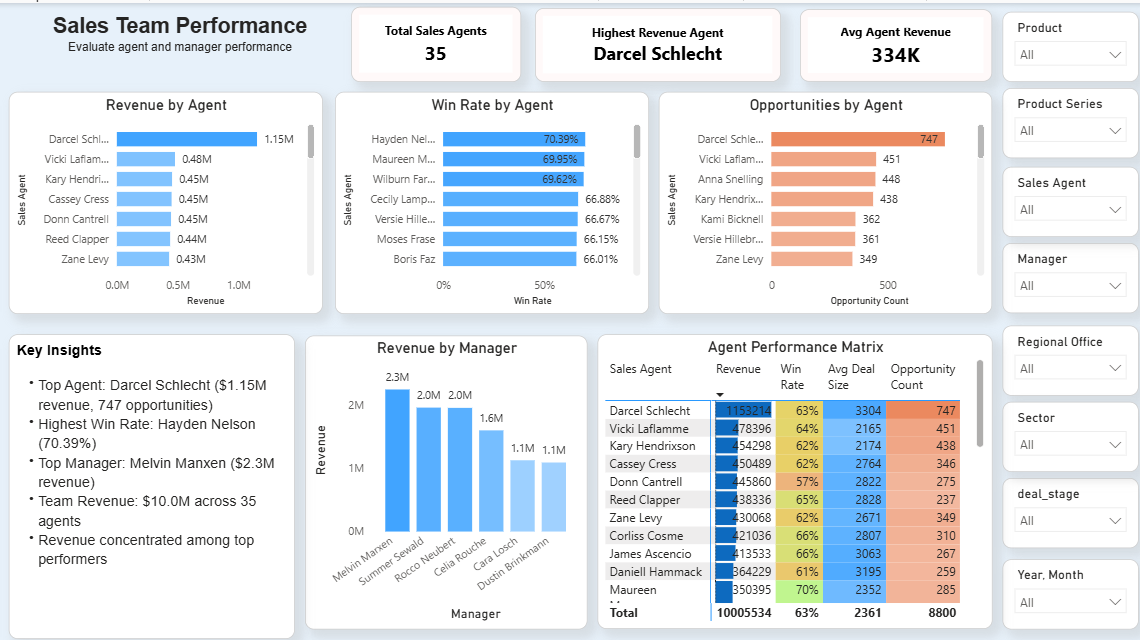

This screenshot's page, from the dashboard's own definition file:
{"tool":"powerbi","page":{"name":"Sales Team Performance","canvas":[1280,720],"ordinal":2},"visuals":[{"type":"cardVisual","title":"Total Revenue","fields":{"Data":["Measures_table.Total Sales Agents"]},"box":[391.9,4.2,189.7,83.7],"z":0},{"type":"clusteredColumnChart","title":"Revenue by Manager","fields":{"Category":["sales_teams.manager"],"Y":["Measures_table.Total Revenue"]},"box":[340.3,371,315.2,327.7],"z":1000},{"type":"textbox","box":[9.8,7,382.1,83.7],"z":2000},{"type":"cardVisual","fields":{"Data":["Measures_table.Highest Revenue Agent"]},"box":[596.9,5.6,274.7,82.3],"z":3000},{"type":"cardVisual","fields":{"Data":["Measures_table.Average Agent Revenue"]},"box":[892.6,7,214.8,80.9],"z":4000},{"type":"slicer","fields":{"Values":["products.product"]},"box":[1118.5,9.8,152,78.1],"z":5000},{"type":"slicer","fields":{"Values":["products.series"]},"box":[1118.5,94.8,152,78.1],"z":6000},{"type":"slicer","fields":{"Values":["sales_teams.manager"]},"box":[1118.5,267.8,152,78.1],"z":7000},{"type":"slicer","fields":{"Values":["sales_teams.regional_office"]},"box":[1118.5,359.8,152,78.1],"z":8000},{"type":"slicer","fields":{"Values":["sales_pipeline.deal_stage"]},"box":[1118.5,530,152,78.1],"z":9000},{"type":"slicer","fields":{"Values":["accounts.sector"]},"box":[1118.5,444.9,152,78.1],"z":10000},{"type":"slicer","fields":{"Values":["sales_pipeline.engage_date.Variation.Date Hierarchy.Year","sales_pipeline.engage_date.Variation.Date Hierarchy.Month"]},"box":[1118.5,620.6,152,78.1],"z":11000},{"type":"textbox","box":[9.7,369.4,319.4,340.3],"z":12000},{"type":"slicer","fields":{"Values":["sales_pipeline.sales_agent"]},"box":[1118.5,182.7,152,78.1],"z":13000},{"type":"clusteredBarChart","title":"Revenue by Agent","fields":{"Y":["Measures_table.Total Revenue"],"Category":["sales_pipeline.sales_agent"]},"box":[9.8,99,350.1,248.2],"z":14000},{"type":"clusteredBarChart","title":"Win Rate by Agent","fields":{"Category":["sales_pipeline.sales_agent"],"Y":["Measures_table.Win Rate"]},"box":[373.8,99,350.1,248.2],"z":15000},{"type":"clusteredBarChart","title":"Opportunities by Agent","fields":{"Y":["Measures_table.Total Opportunities"],"Category":["sales_pipeline.sales_agent"]},"box":[735,99,372.4,248.2],"z":16000},{"type":"pivotTable","title":"Agent Performance Matrix","fields":{"Rows":["sales_pipeline.sales_agent"],"Values":["Measures_table.Total Revenue","Measures_table.Win Rate","Measures_table.Avg Deal Size","Measures_table.Total Opportunities"]},"box":[666.6,369.6,440.7,329.1],"z":17000}]}

Visuals, with their boxes in screenshot pixels (x1, y1, x2, y2), scaled from the page's 1280x720 canvas onto the 1140x640 screenshot:
"Total Revenue" cardVisual: (349, 4, 518, 78)
"Revenue by Manager" clusteredColumnChart: (303, 330, 584, 621)
textbox: (9, 6, 349, 81)
cardVisual - Measures_table.Highest Revenue Agent: (532, 5, 776, 78)
cardVisual - Measures_table.Average Agent Revenue: (795, 6, 986, 78)
slicer - products.product: (996, 9, 1132, 78)
slicer - products.series: (996, 84, 1132, 154)
slicer - sales_teams.manager: (996, 238, 1132, 307)
slicer - sales_teams.regional_office: (996, 320, 1132, 389)
slicer - sales_pipeline.deal_stage: (996, 471, 1132, 541)
slicer - accounts.sector: (996, 395, 1132, 465)
slicer - sales_pipeline.engage_date.Variation.Date Hierarchy.Year x sales_pipeline.engage_date.Variation.Date Hierarchy.Month: (996, 552, 1132, 621)
textbox: (9, 328, 293, 631)
slicer - sales_pipeline.sales_agent: (996, 162, 1132, 232)
"Revenue by Agent" clusteredBarChart: (9, 88, 321, 309)
"Win Rate by Agent" clusteredBarChart: (333, 88, 645, 309)
"Opportunities by Agent" clusteredBarChart: (655, 88, 986, 309)
"Agent Performance Matrix" pivotTable: (594, 329, 986, 621)
